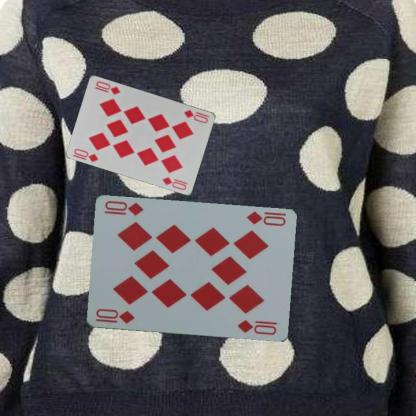10d: (92, 306, 136, 326), (243, 209, 287, 228), (182, 107, 210, 124), (72, 146, 100, 163)
